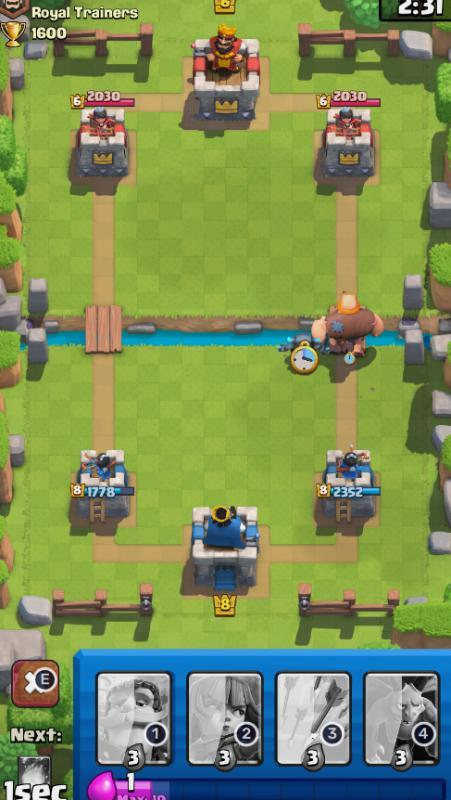player_giant: (310, 289, 385, 362)
player_mini_pekka: (276, 332, 328, 358)
